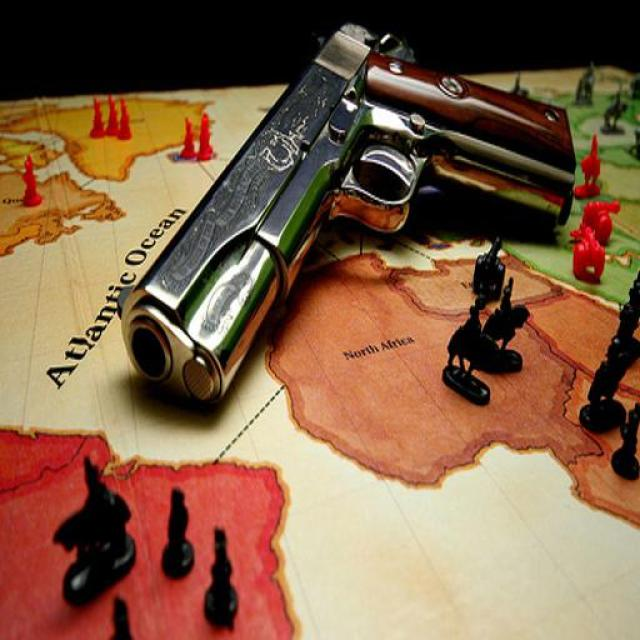pistol: (120, 21, 574, 412)
